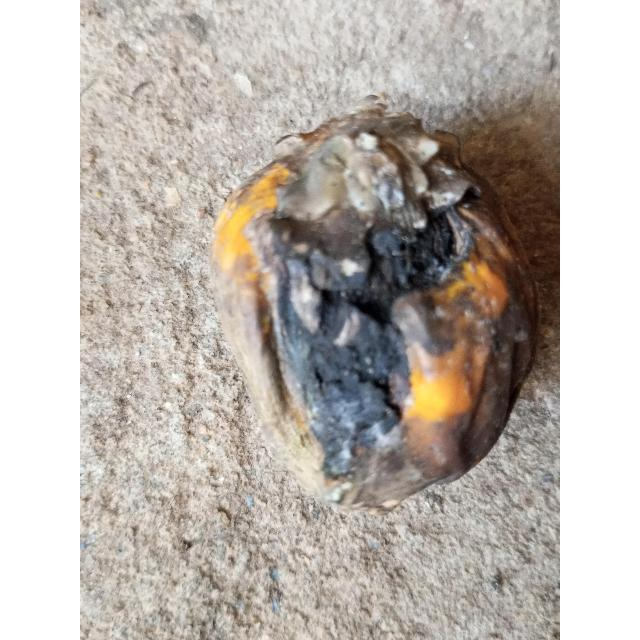damaged: (210, 100, 541, 515)
